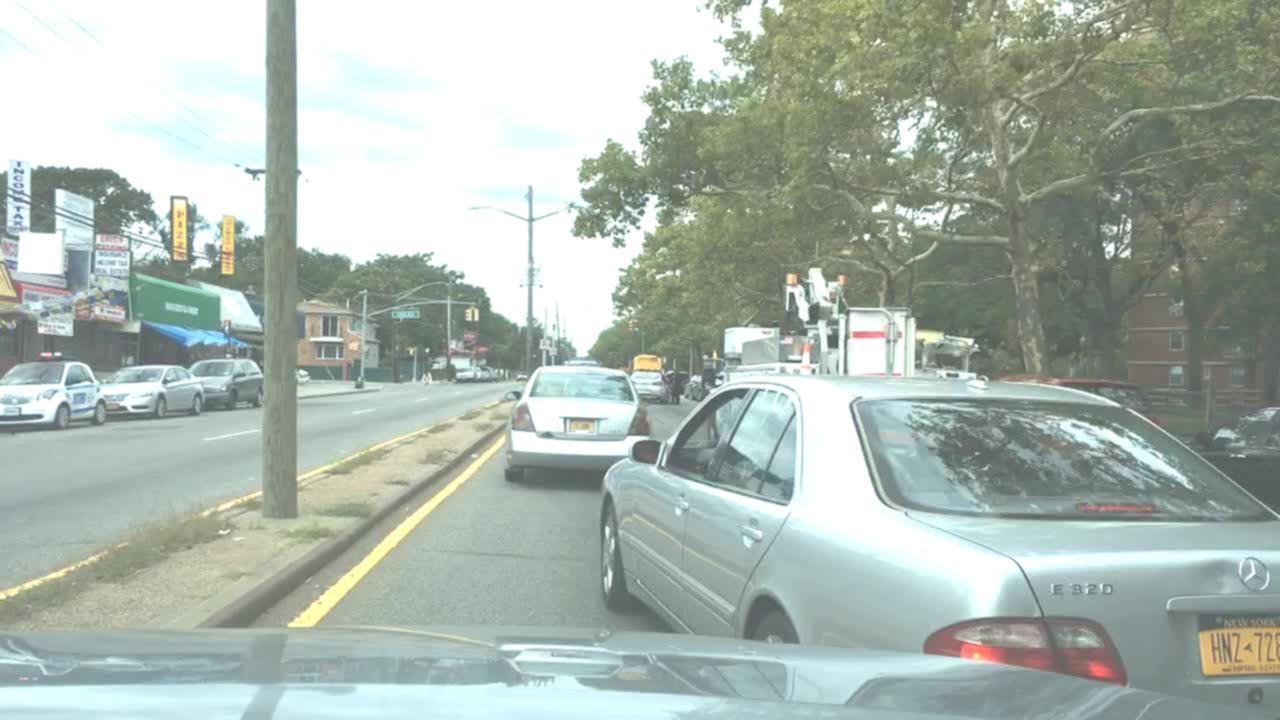Mercedes: (1231, 541, 1279, 598)
